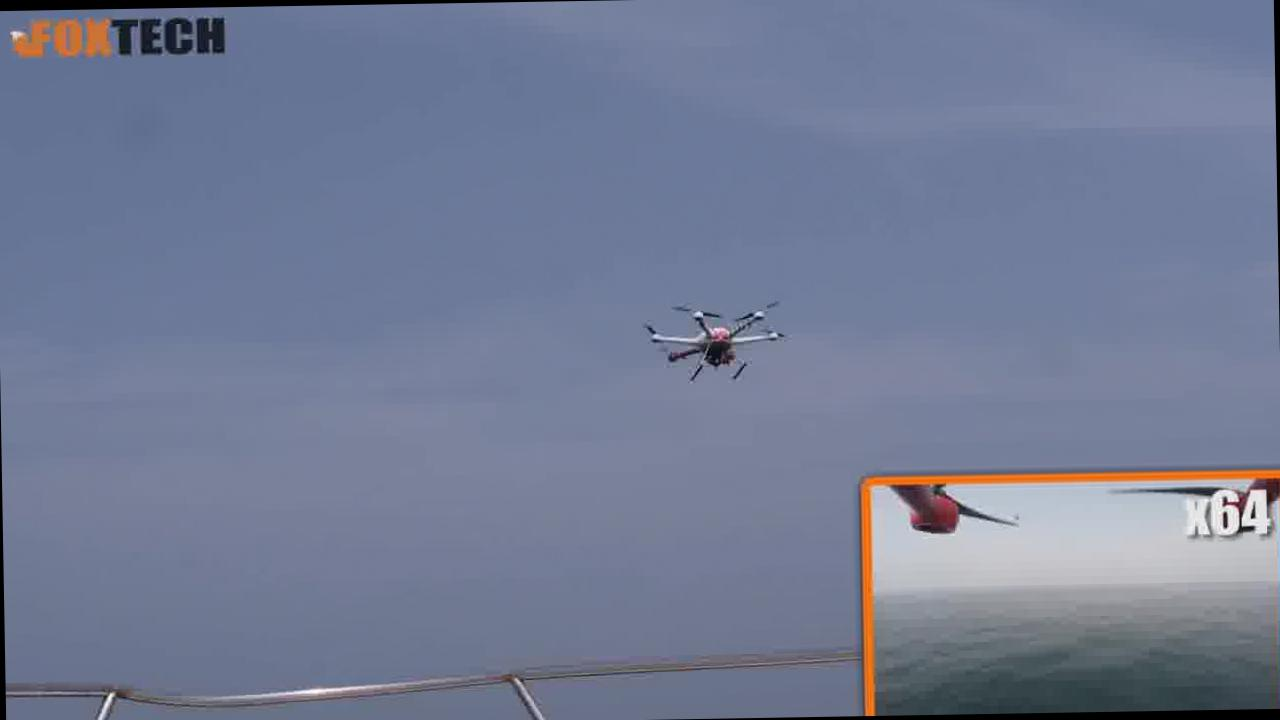drone: (628, 276, 808, 401)
